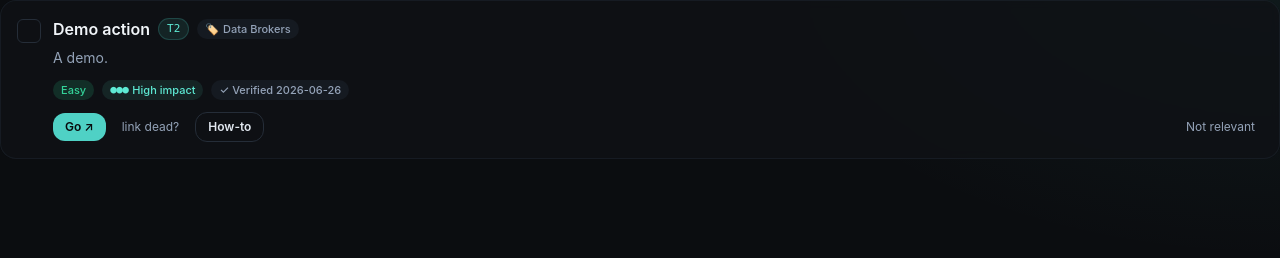
ActionCard › reveals how-to steps on demand
Check: the text "First step" is not shown
Step 1. Click the button "How-to" → x=230, y=127, box 195,112 -> 264,142
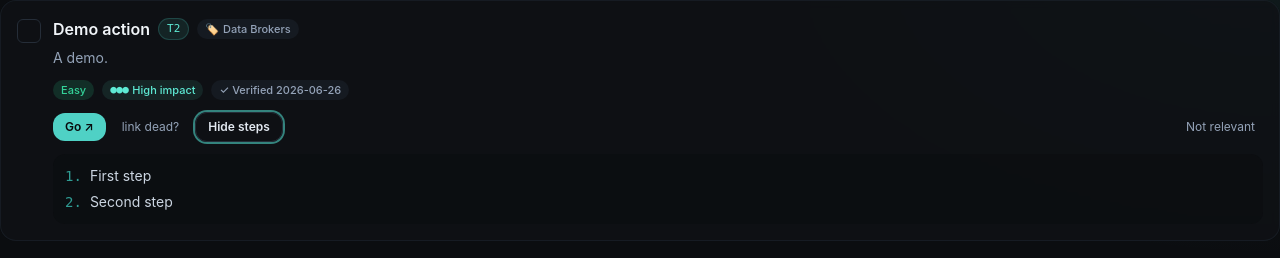
Check: the text "First step" is shown, box 90,166 -> 151,186
